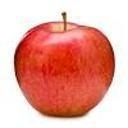apple: (13, 12, 116, 119)
